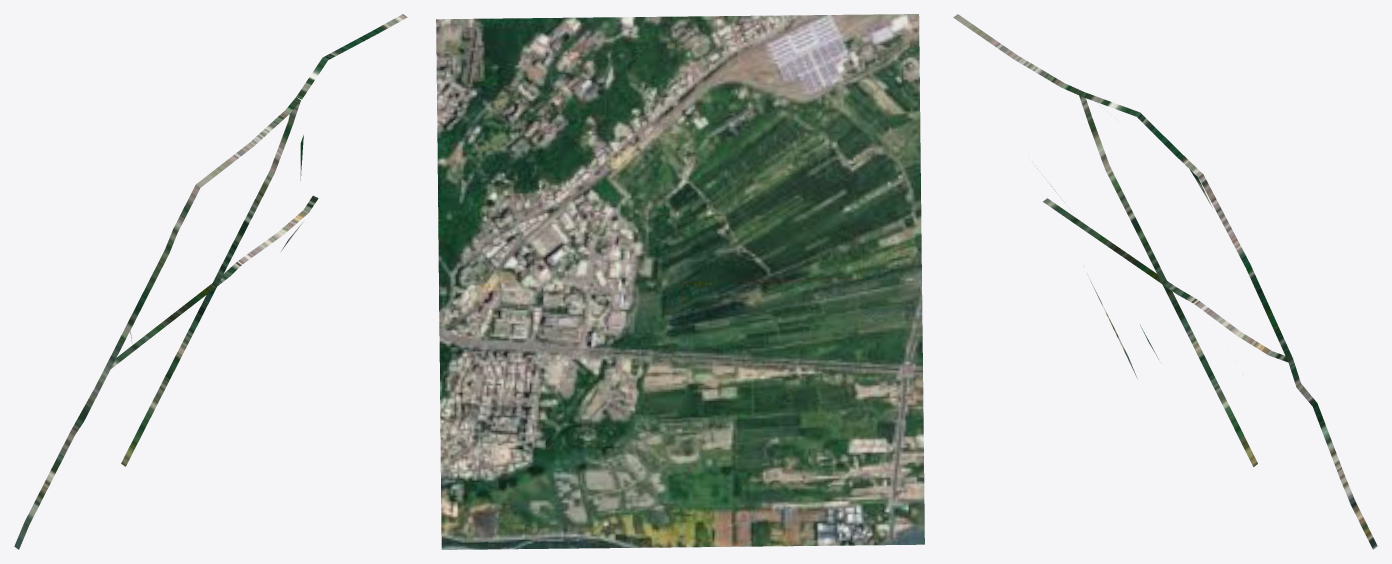
3 renders of one model, left to right at view 1: azimuth 30°, elevation 25°; view 2: azimuth 150°, elevation 25°; view 3: azimuth 270°, elevation 25°, orthographic. The views are drawn at different scales.
Bounding box in the file's own units: 2422 × 2273 × 2055.
1 material, 1 textured.
